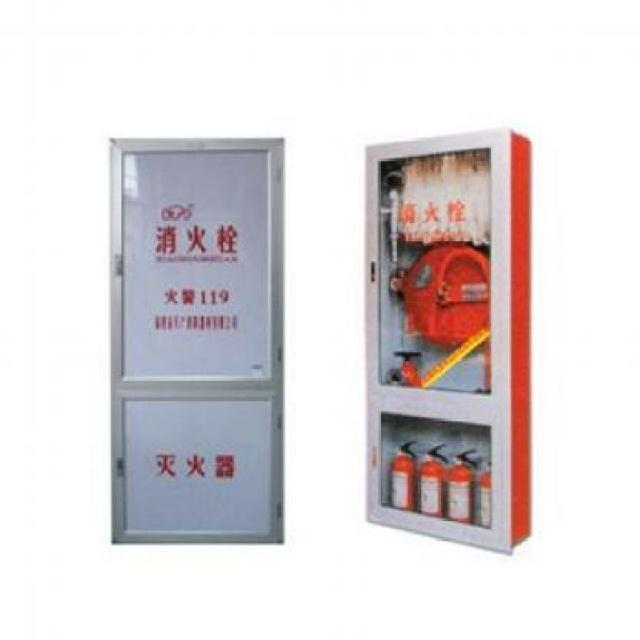firehydrant: (103, 129, 292, 549), (362, 122, 540, 560)
